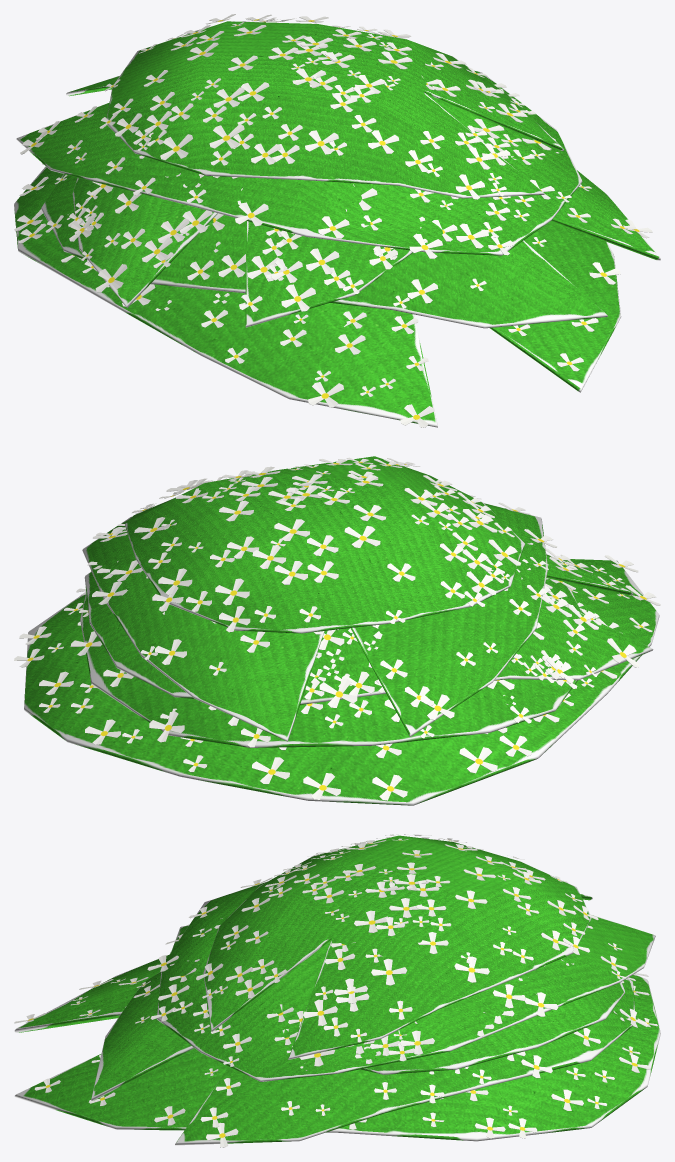
File: Ground Jasmine.fbx
The picture shows the model from 3 angles, top to bottom: view 1: azimuth 30°, elevation 25°; view 2: azimuth 150°, elevation 25°; view 3: azimuth 270°, elevation 25°; orthographic projection. The views are drawn at different scales.
Parts seen in each view (by area): view 1: Ground Jasmine; view 2: Ground Jasmine; view 3: Ground Jasmine.
Part boxes in pixels (x1,y1,x2,y2): Ground Jasmine: (14, 14, 660, 427); Ground Jasmine: (14, 456, 660, 805); Ground Jasmine: (14, 834, 660, 1147).
Bounding box in the file's own units: 4.75 × 1.84 × 5.62.
